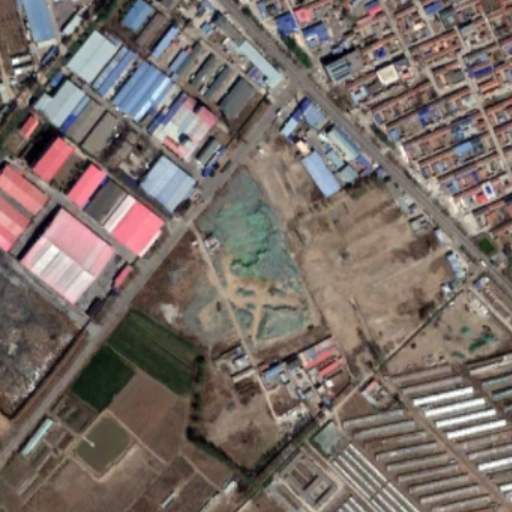cw: (133, 162, 330, 355)
